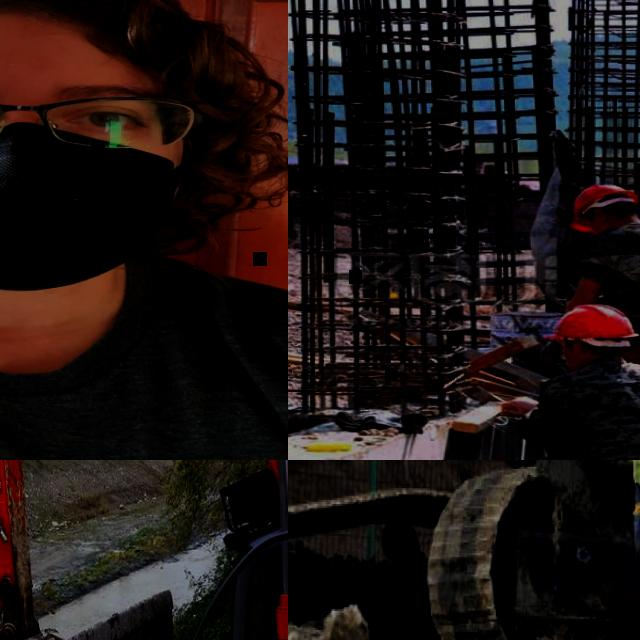Hardhat: (542, 300, 638, 347), (567, 181, 640, 236)
Mask: (0, 124, 194, 288)
NO-Hardhat: (0, 0, 228, 72)
NO-Mask: (586, 217, 613, 235), (564, 350, 582, 370)
NO-Safety Vest: (0, 260, 283, 460), (547, 361, 640, 460), (590, 221, 640, 337)
Person: (0, 0, 288, 460), (483, 303, 640, 460), (533, 460, 640, 640), (565, 179, 640, 399)
vehicle: (288, 460, 640, 640), (0, 460, 288, 640)
